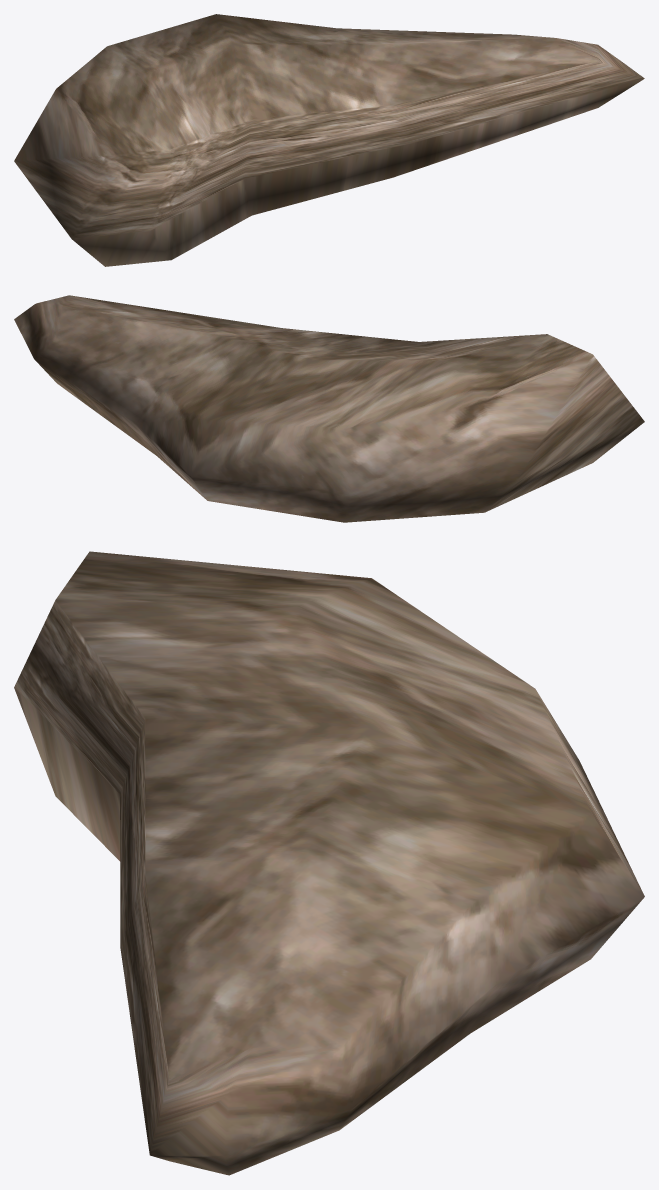
File: OVERHILL_A_01_LINE305.fbx
3 views of the same model, one above another, from view 1: azimuth 30°, elevation 25°; view 2: azimuth 150°, elevation 25°; view 3: azimuth 270°, elevation 25° (orthographic). The views are drawn at different scales.
Visible parts, largest first — view 1: OVERHILL_A_01_LINE305; view 2: OVERHILL_A_01_LINE305; view 3: OVERHILL_A_01_LINE305.
Boxes of the visible parts, x1=… form: OVERHILL_A_01_LINE305: x1=14, y1=14, x2=644, y2=266; OVERHILL_A_01_LINE305: x1=14, y1=295, x2=644, y2=522; OVERHILL_A_01_LINE305: x1=14, y1=551, x2=644, y2=1175.
Bounding box in the file's own units: 62931 × 12546 × 32580.
1 material, 1 textured.
